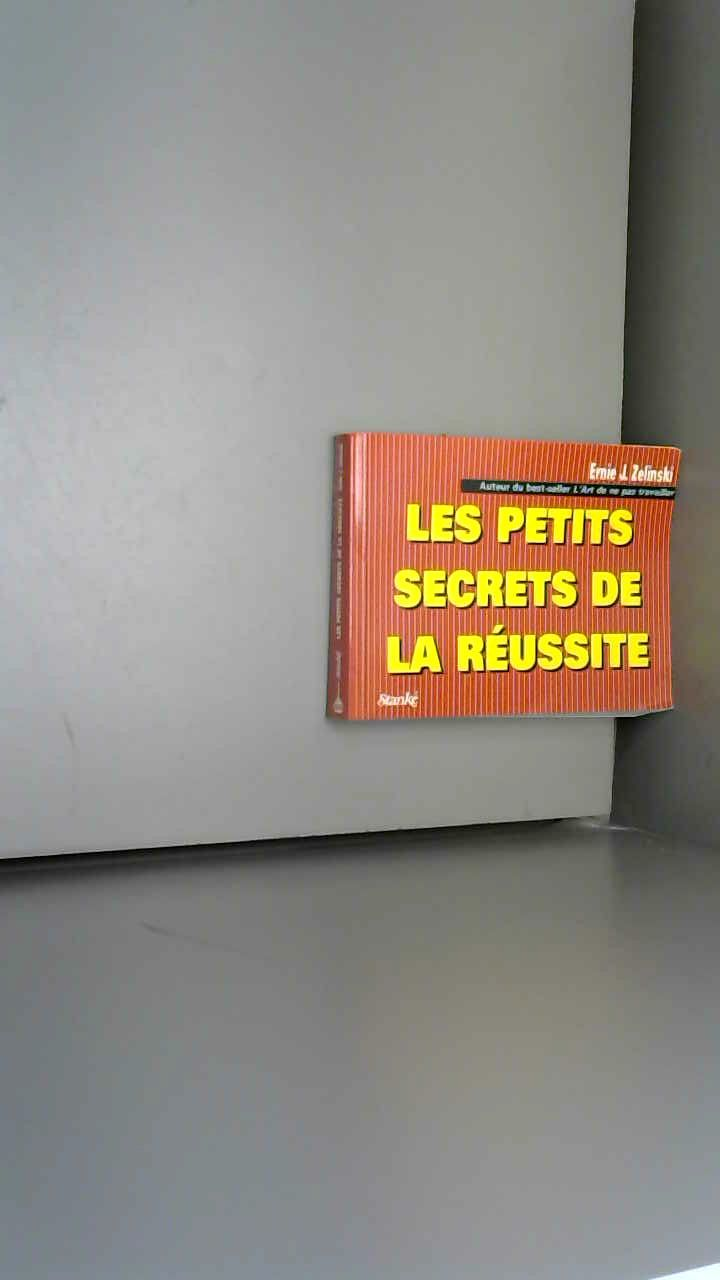book: (278, 391, 714, 780)
